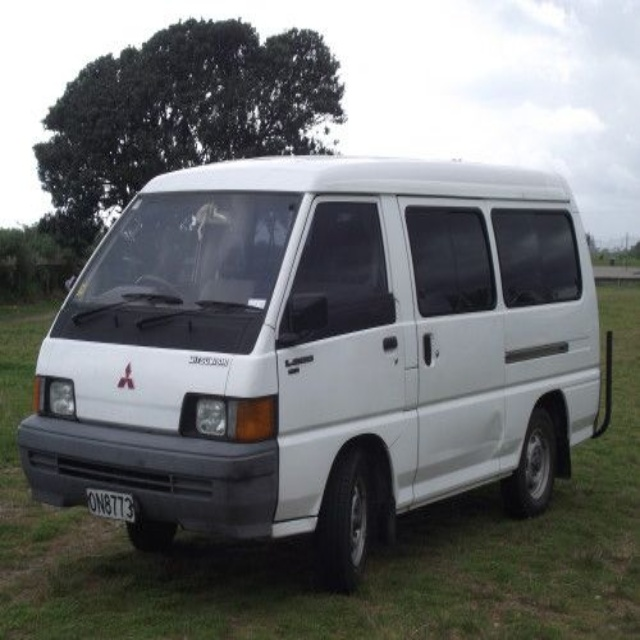Van: (17, 155, 599, 587)
